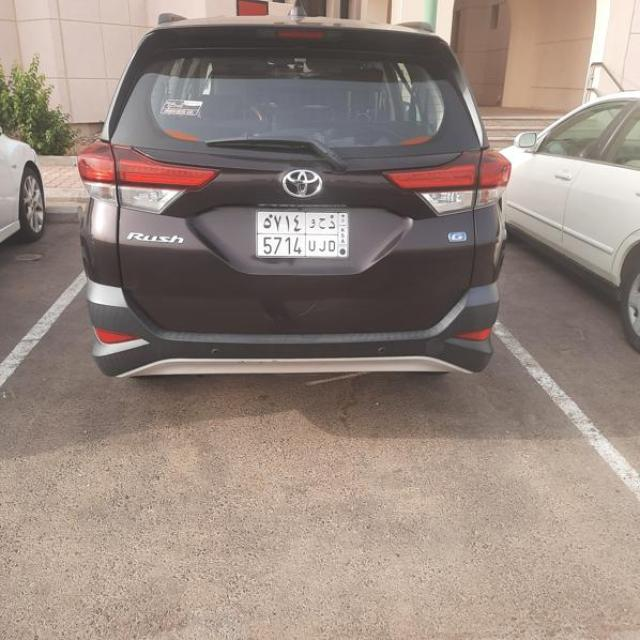license_plate: (257, 210, 350, 257)
